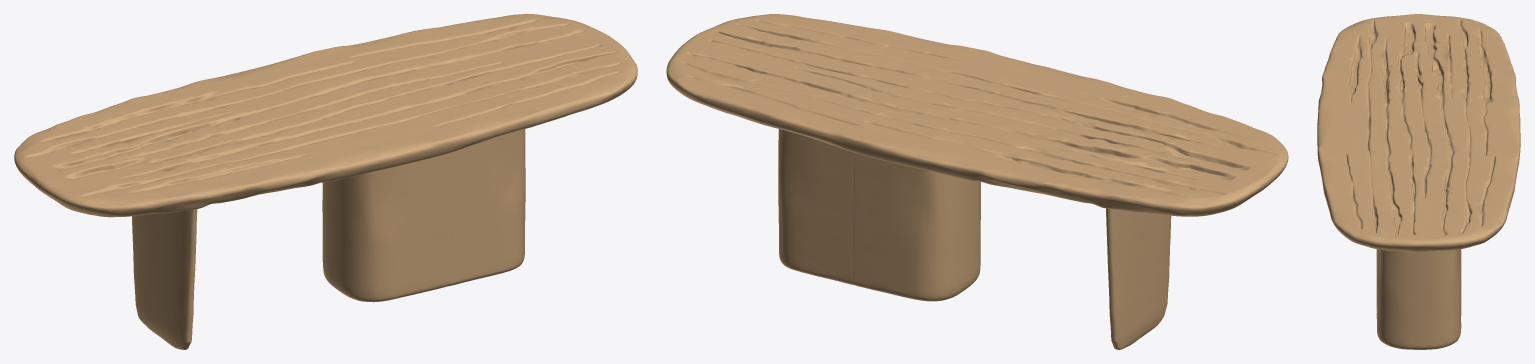
3 views of the same model, side by side, from view 1: azimuth 30°, elevation 25°; view 2: azimuth 150°, elevation 25°; view 3: azimuth 270°, elevation 25° (orthographic). The views are drawn at different scales.
Parts seen in each view (by area): view 1: tripo_node_757c84dc-64f5-485a-987b-173c07779c59; view 2: tripo_node_757c84dc-64f5-485a-987b-173c07779c59; view 3: tripo_node_757c84dc-64f5-485a-987b-173c07779c59.
Boxes of the visible parts, x1=… form: tripo_node_757c84dc-64f5-485a-987b-173c07779c59: x1=14, y1=14, x2=637, y2=349; tripo_node_757c84dc-64f5-485a-987b-173c07779c59: x1=666, y1=14, x2=1288, y2=349; tripo_node_757c84dc-64f5-485a-987b-173c07779c59: x1=1317, y1=14, x2=1520, y2=349.
Bounding box in the file's own units: 2.4 × 0.75 × 0.9001.
